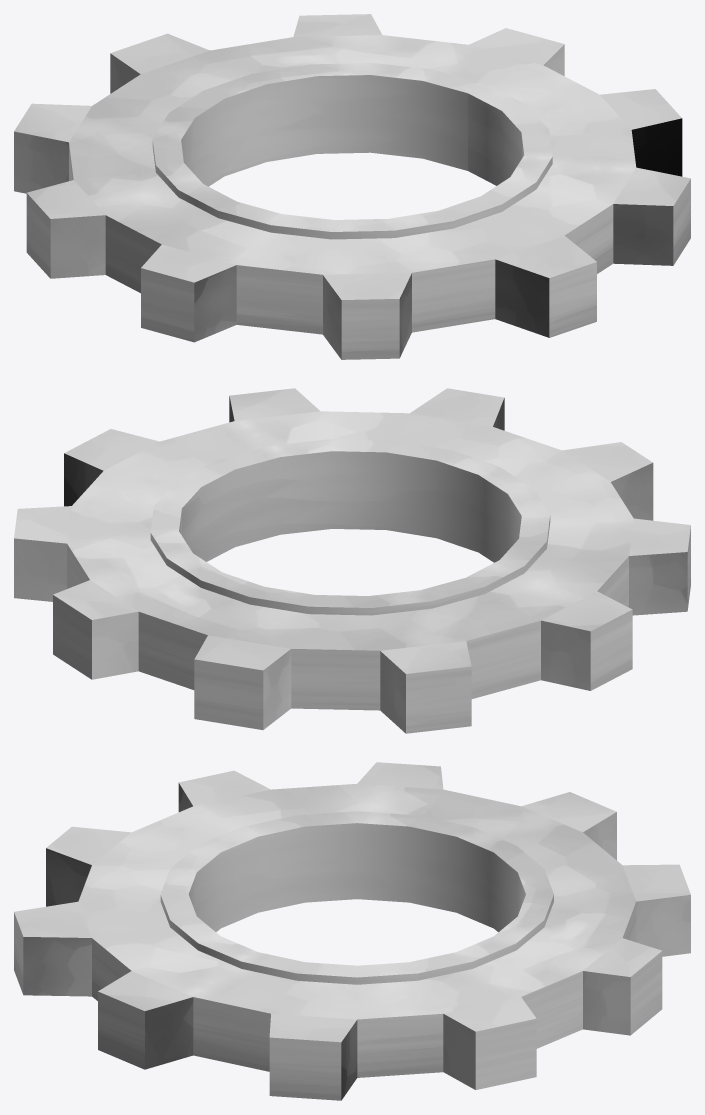
File: Cogwheel_silver.fbx
The picture shows the model from 3 angles, top to bottom: view 1: azimuth 30°, elevation 25°; view 2: azimuth 150°, elevation 25°; view 3: azimuth 270°, elevation 25°; orthographic projection. The views are drawn at different scales.
Parts seen in each view (by area): view 1: polySurface2; view 2: polySurface2; view 3: polySurface2.
Part boxes in pixels (bbox=[...]): polySurface2: bbox=[14, 14, 690, 359]; polySurface2: bbox=[14, 388, 690, 733]; polySurface2: bbox=[14, 762, 690, 1100].
Bounding box in the file's own units: 11.18 × 1.41 × 11.41.
Materials: 1 (1 with a texture image).
